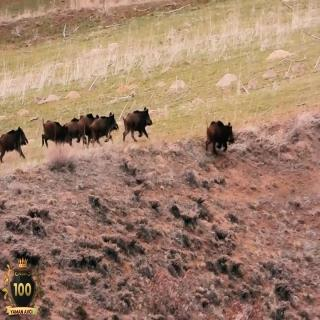Pig: (208, 112, 248, 156), (40, 109, 86, 147), (5, 112, 30, 174), (136, 98, 164, 153), (99, 110, 124, 150), (86, 100, 100, 124)
